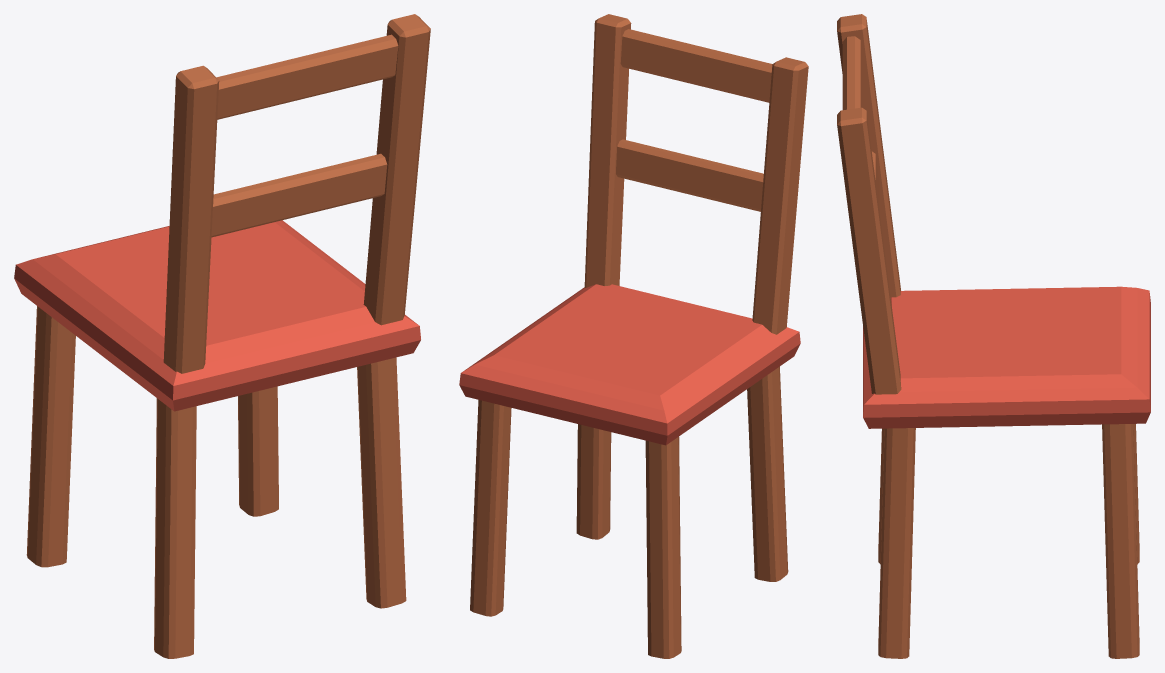
File: Chair2red.fbx
3 views of the same model, side by side, from view 1: azimuth 30°, elevation 25°; view 2: azimuth 150°, elevation 25°; view 3: azimuth 270°, elevation 25° (orthographic). The views are drawn at different scales.
Parts seen in each view (by area): view 1: chair 2 red; view 2: chair 2 red; view 3: chair 2 red.
Part boxes in pixels (x1,y1,x2,y2): chair 2 red: [14, 14, 430, 658]; chair 2 red: [459, 14, 808, 658]; chair 2 red: [837, 14, 1150, 658].
Bounding box in the file's own units: 135 × 310 × 163.
1 material, 1 textured.
